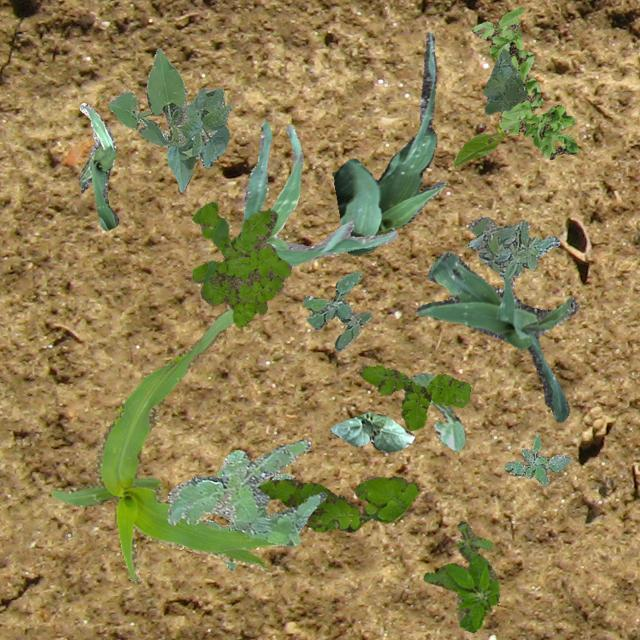crop: (50, 306, 284, 582), (416, 252, 576, 420), (332, 32, 446, 254), (242, 120, 396, 264), (107, 46, 230, 190), (78, 102, 118, 230), (410, 372, 464, 450), (328, 411, 414, 452), (452, 124, 507, 166)
weed: (167, 438, 326, 546), (470, 5, 578, 158), (192, 200, 290, 326), (256, 476, 418, 532), (204, 468, 292, 568), (422, 520, 498, 632), (358, 364, 468, 428), (468, 215, 558, 278), (302, 270, 371, 350), (504, 434, 570, 484), (482, 48, 526, 114)
